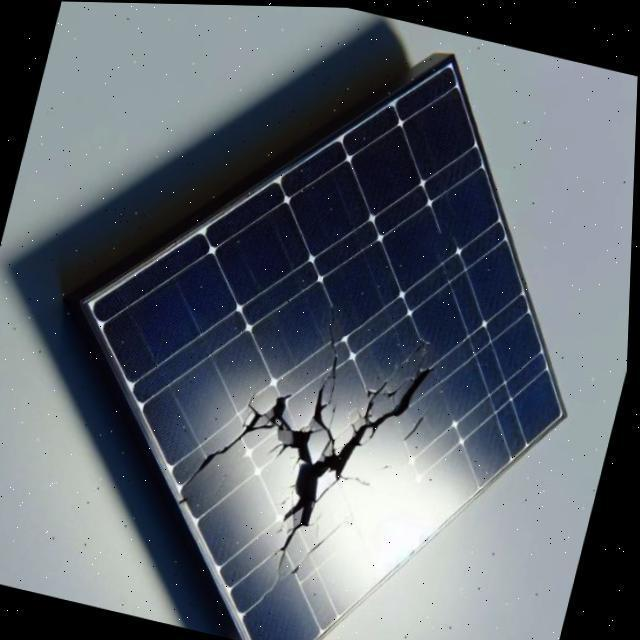Anomaly Solar Panel: (90, 57, 567, 640)
Structural Damage: (234, 297, 452, 534), (176, 406, 281, 499), (320, 301, 348, 400), (269, 517, 308, 579), (306, 514, 356, 557), (404, 409, 431, 441), (342, 470, 379, 486)
